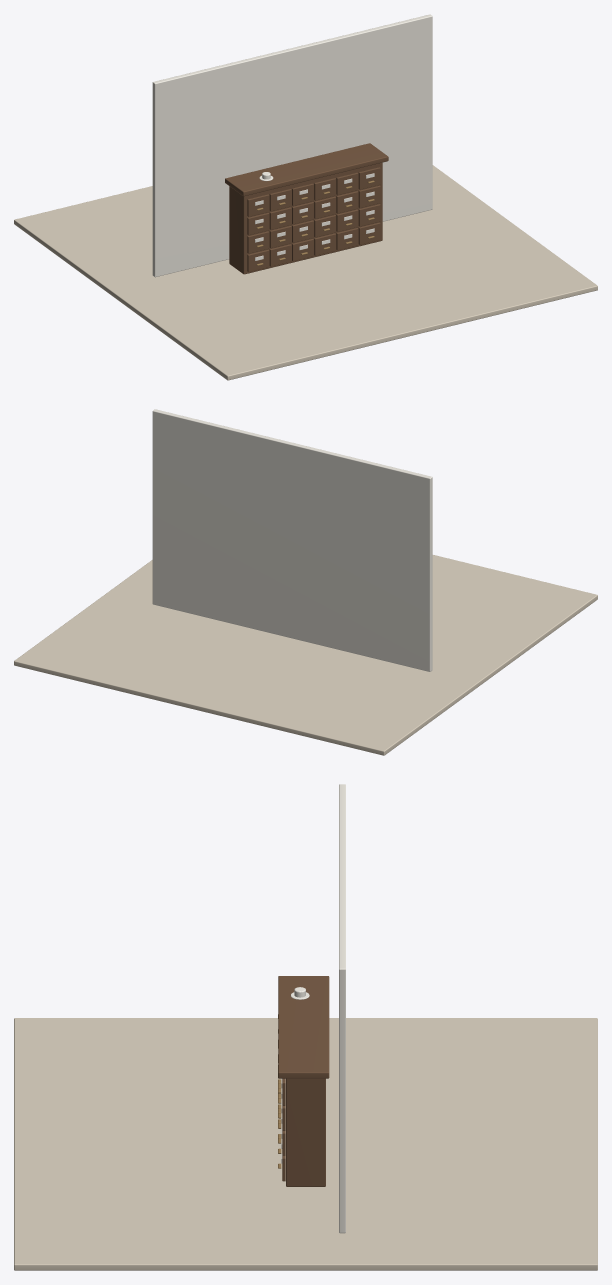
Rendered from apothecary-blender.glb.
3 renders of one model, top to bottom at view 1: azimuth 30°, elevation 25°; view 2: azimuth 150°, elevation 25°; view 3: azimuth 270°, elevation 25°, orthographic. The views are drawn at different scales.
Parts seen in each view (by area): view 1: Travertine floor, Limewash backdrop, Walnut apothecary carcass, Walnut serving counter; view 2: Limewash backdrop, Travertine floor; view 3: Travertine floor, Walnut serving counter, Walnut apothecary carcass, Limewash backdrop.
Boxes of the visible parts, x1=… form: Travertine floor: x1=14, y1=165, x2=597, y2=380; Limewash backdrop: x1=152, y1=14, x2=432, y2=277; Walnut apothecary carcass: x1=229, y1=162, x2=382, y2=274; Walnut serving counter: x1=225, y1=143, x2=388, y2=196; Limewash backdrop: x1=152, y1=409, x2=432, y2=671; Travertine floor: x1=14, y1=555, x2=597, y2=755; Travertine floor: x1=14, y1=1018, x2=597, y2=1270; Walnut serving counter: x1=278, y1=976, x2=329, y2=1078; Walnut apothecary carcass: x1=286, y1=1078, x2=325, y2=1186; Limewash backdrop: x1=339, y1=784, x2=345, y2=1233.
Bounding box in the file's own units: 8 × 4.1 × 8.
